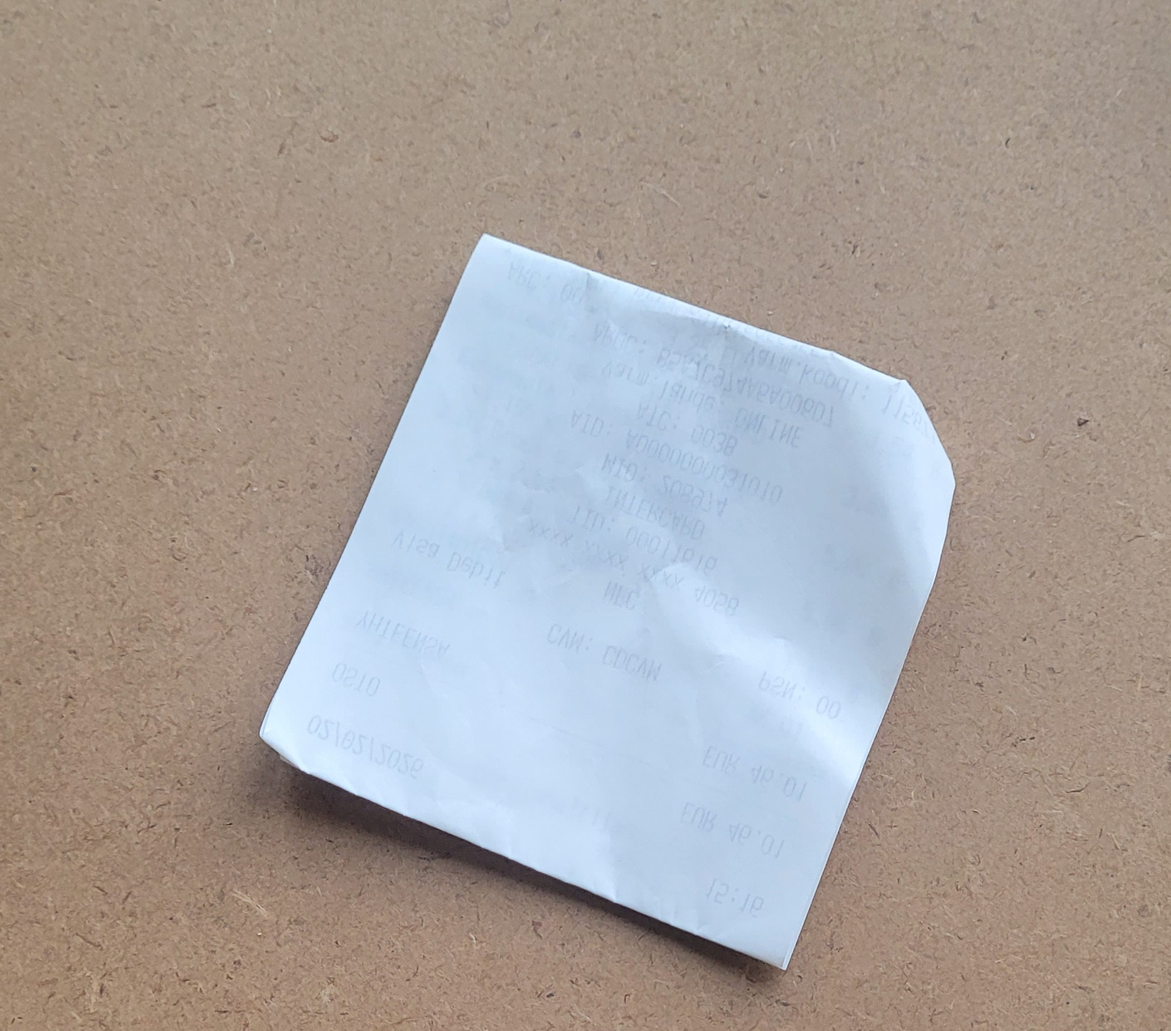paper: (116, 54, 1081, 991)
